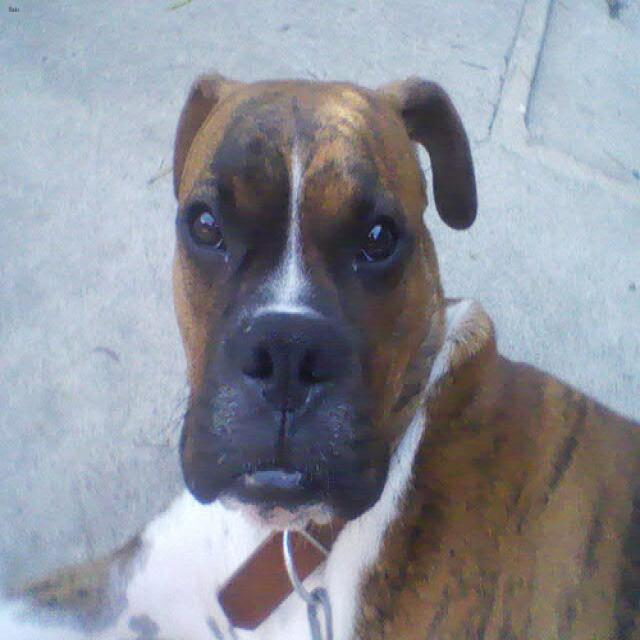dog: (172, 68, 476, 529)
